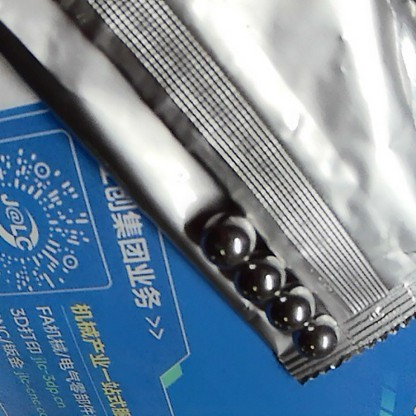ironball: (197, 204, 263, 267), (221, 249, 286, 302), (262, 276, 311, 338), (291, 308, 334, 361)
